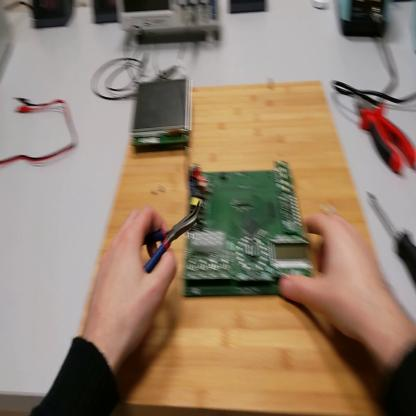hand: (282, 208, 389, 349), (85, 203, 175, 359)
low voltage board: (174, 157, 306, 296)
oscilloscope: (118, 1, 224, 54)
oscilloscope probe tip: (129, 62, 175, 101)
pliers: (354, 89, 416, 176), (142, 202, 201, 273)
power supply: (2, 2, 15, 80)
screwdriver-: (368, 192, 416, 290)
socket: (31, 2, 74, 35), (93, 1, 120, 29)
welder station: (336, 2, 391, 38)
working area: (79, 79, 383, 415)
